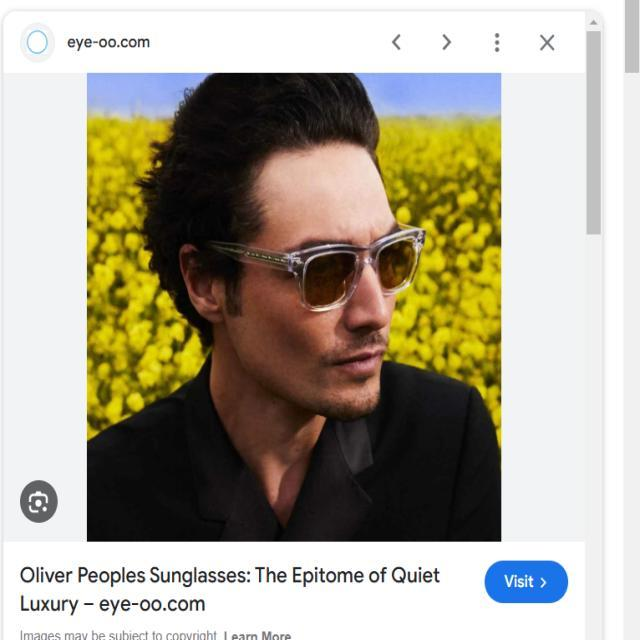face_no_mask: (170, 133, 414, 404)
